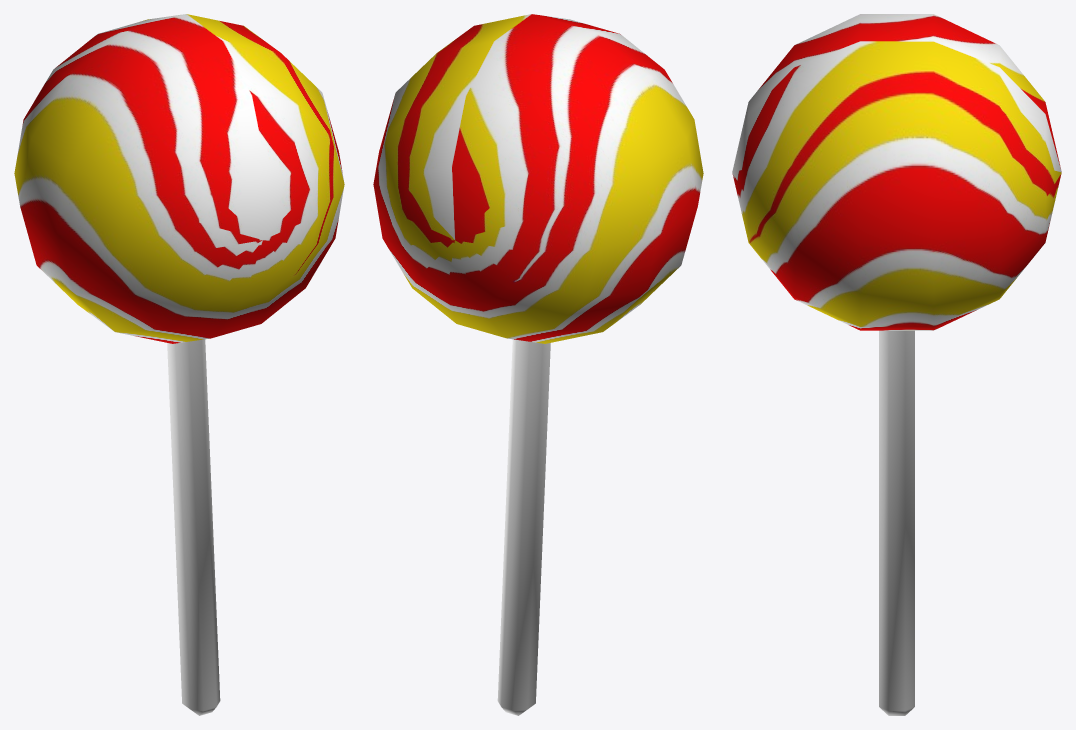
Rendered from CANDIES01.FBX.
The picture shows the model from 3 angles, left to right: view 1: azimuth 30°, elevation 25°; view 2: azimuth 150°, elevation 25°; view 3: azimuth 270°, elevation 25°; orthographic projection.
Parts seen in each view (by area): view 1: Sphere002; view 2: Sphere002; view 3: Sphere002.
Part boxes in pixels (x1,y1,x2,y2): Sphere002: [14, 14, 344, 715]; Sphere002: [373, 14, 703, 715]; Sphere002: [732, 14, 1061, 715].
Bounding box in the file's own units: 490 × 1134 × 503.
Materials: 2 (1 with a texture image).
